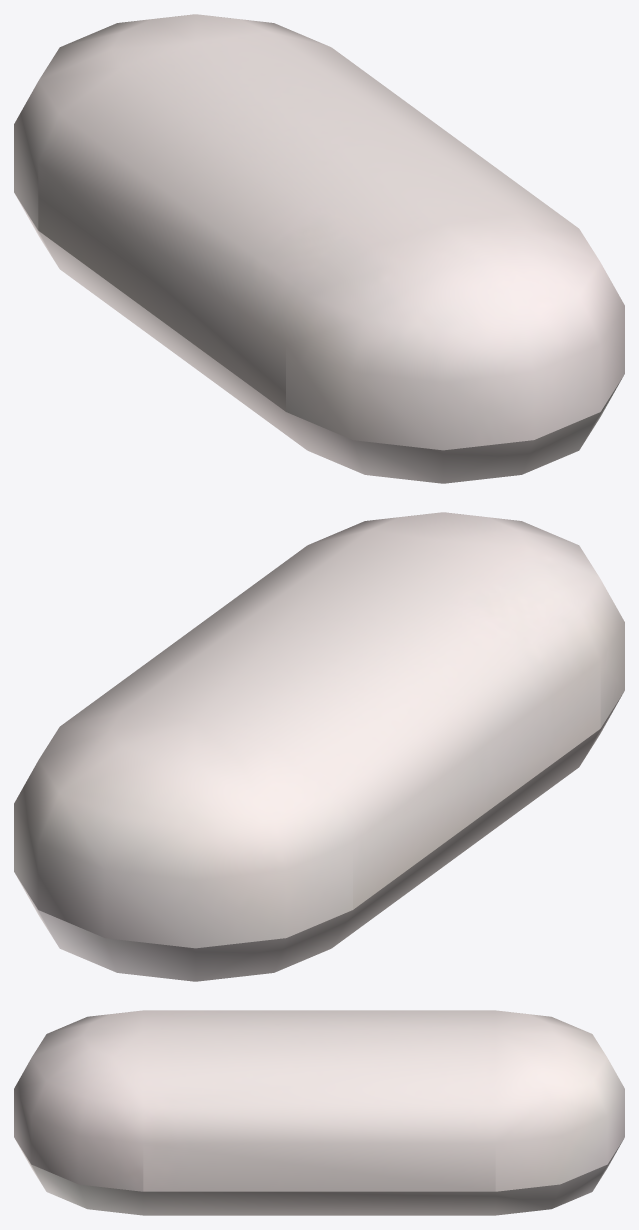
Rendered from medicine09.fbx.
3 views of the same model, one above another, from view 1: azimuth 30°, elevation 25°; view 2: azimuth 150°, elevation 25°; view 3: azimuth 270°, elevation 25° (orthographic). The views are drawn at different scales.
Visible parts, largest first — view 1: medicine09; view 2: medicine09; view 3: medicine09.
Boxes of the visible parts, bbox=[...] form: medicine09: bbox=[14, 14, 624, 483]; medicine09: bbox=[14, 512, 624, 981]; medicine09: bbox=[14, 1010, 624, 1215].
Size of the model in its own units: 0.8857 by 0.6194 by 2.09.
Materials: 1 (1 with a texture image).
